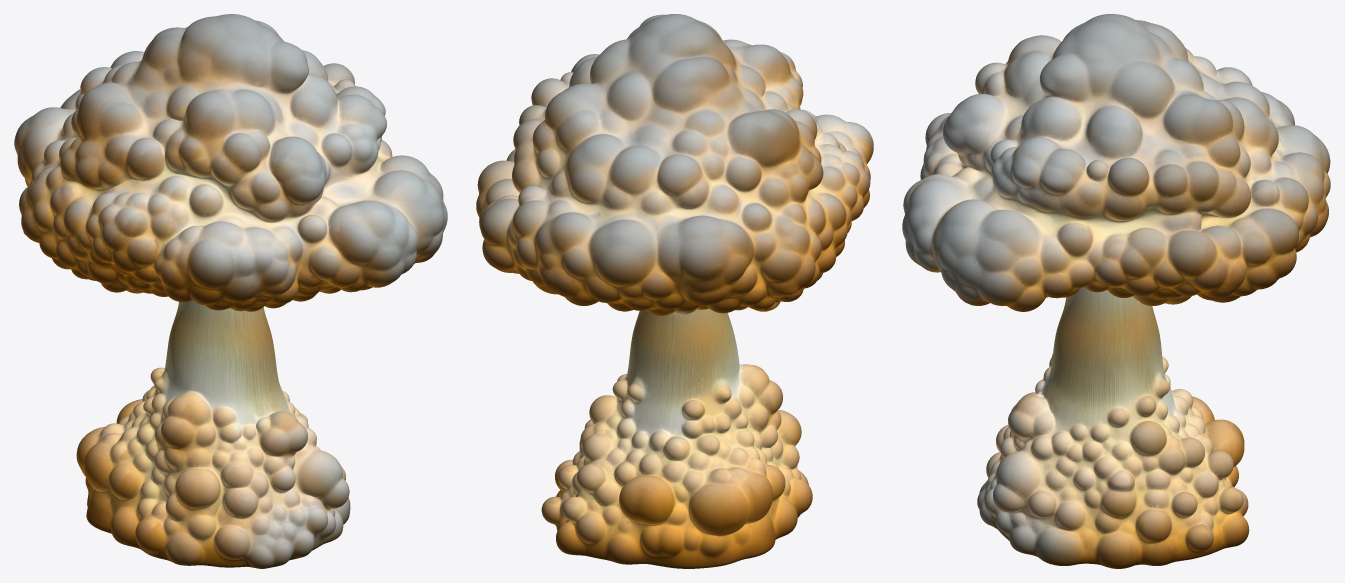
3 views of the same model, side by side, from view 1: azimuth 30°, elevation 25°; view 2: azimuth 150°, elevation 25°; view 3: azimuth 270°, elevation 25° (orthographic).
Parts seen in each view (by area): view 1: Mesh_0; view 2: Mesh_0; view 3: Mesh_0.
Part boxes in pixels (x1,y1,x2,y2): Mesh_0: (14,14,447,568); Mesh_0: (476,14,873,568); Mesh_0: (902,14,1330,568).
Bounding box in the file's own units: 24531 × 35414 × 27429.
Materials: 1 (1 with a texture image).
